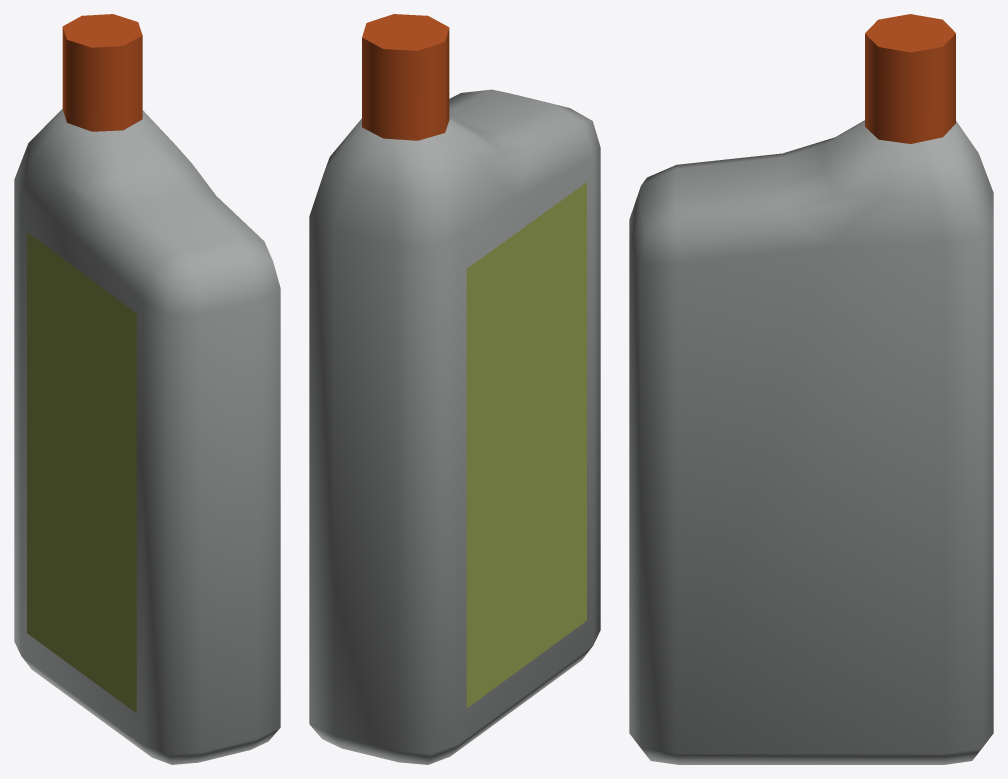
The model's file is PlasticBottle2.fbx.
3 views of the same model, side by side, from view 1: azimuth 30°, elevation 25°; view 2: azimuth 150°, elevation 25°; view 3: azimuth 270°, elevation 25° (orthographic). The views are drawn at different scales.
Parts seen in each view (by area): view 1: BottlePlastic4, BottlePlastic4.002, BottlePlastic4.1; view 2: BottlePlastic4, BottlePlastic4.002, BottlePlastic4.1; view 3: BottlePlastic4, BottlePlastic4.1.
Boxes of the visible parts, left/top/right/bottom form: BottlePlastic4: left=14, top=109, right=280, bottom=764; BottlePlastic4.002: left=27, top=232, right=136, bottom=712; BottlePlastic4.1: left=62, top=14, right=142, bottom=131; BottlePlastic4: left=309, top=89, right=600, bottom=764; BottlePlastic4.002: left=466, top=182, right=586, bottom=708; BottlePlastic4.1: left=362, top=14, right=449, bottom=140; BottlePlastic4: left=629, top=120, right=993, bottom=764; BottlePlastic4.1: left=865, top=14, right=955, bottom=143.
Size of the model in its own units: 36.6 by 170 by 80.04.
